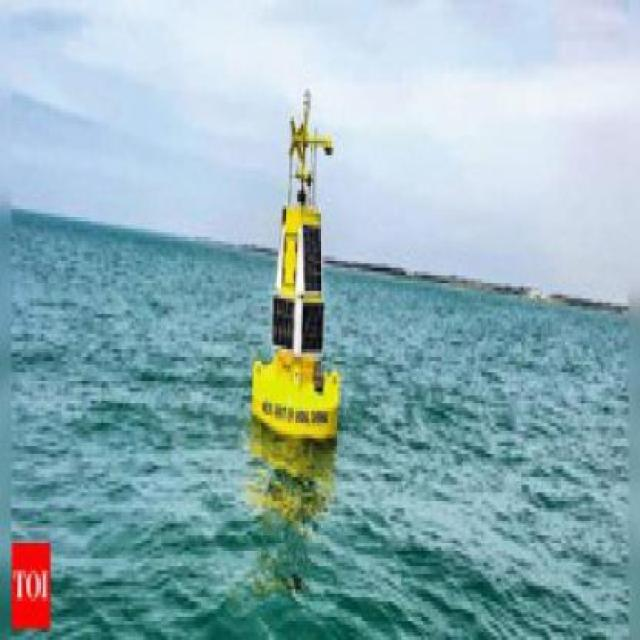buoy: (242, 62, 356, 455)
